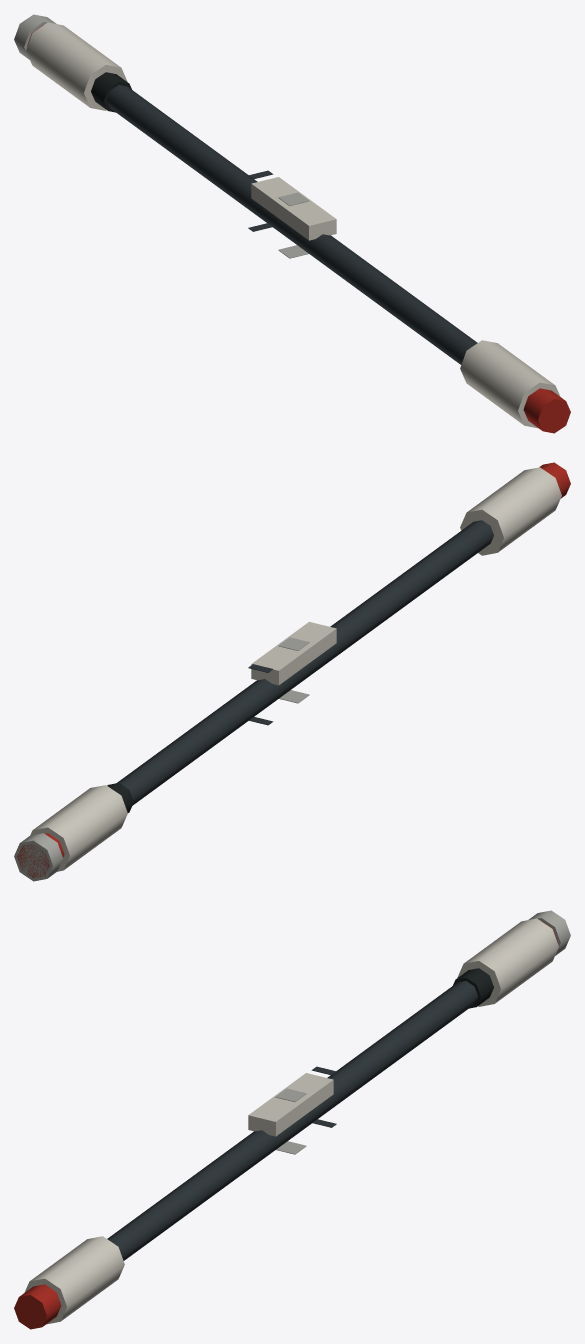
The picture shows the model from 3 angles, top to bottom: view 1: azimuth 30°, elevation 25°; view 2: azimuth 150°, elevation 25°; view 3: azimuth 330°, elevation 25°; orthographic projection.
Parts seen in each view (by area): view 1: weapon-energy-staff-painted; view 2: weapon-energy-staff-painted; view 3: weapon-energy-staff-painted.
Boxes of the visible parts, bbox=[...] form: weapon-energy-staff-painted: bbox=[14, 14, 570, 433]; weapon-energy-staff-painted: bbox=[14, 462, 570, 881]; weapon-energy-staff-painted: bbox=[14, 910, 570, 1329].
Size of the model in its own units: 0.4632 by 0.5316 by 9.47.
